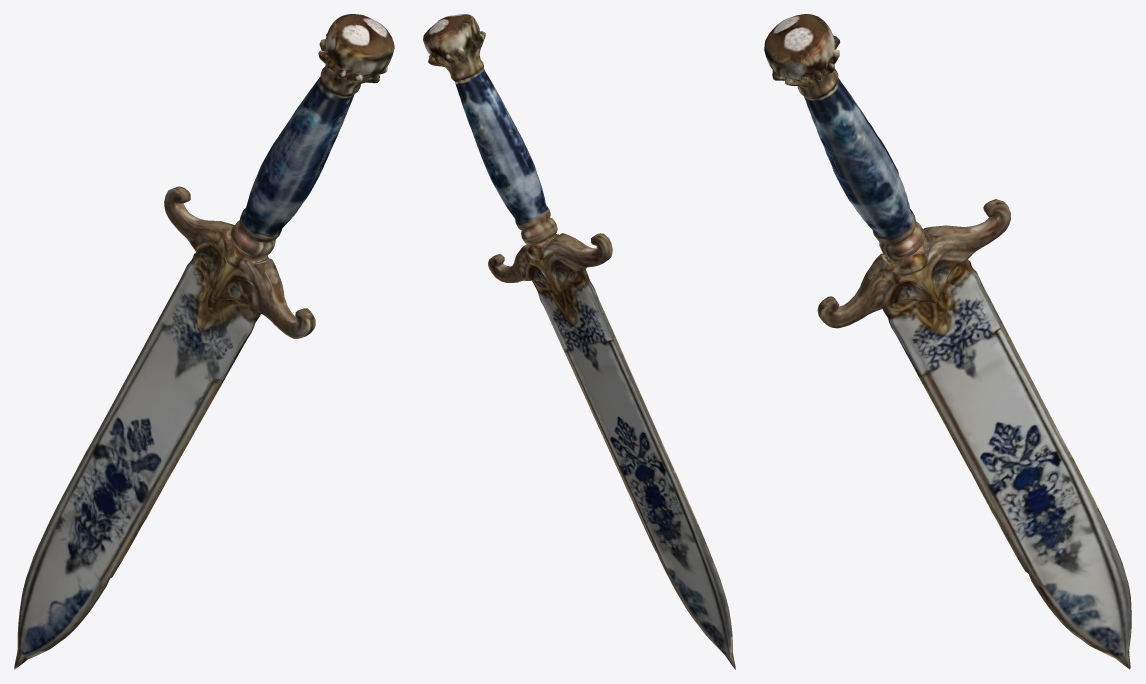
The model's file is knife_dagger.glb.
3 renders of one model, left to right at view 1: azimuth 30°, elevation 25°; view 2: azimuth 210°, elevation 25°; view 3: azimuth 270°, elevation 25°, orthographic. The views are drawn at different scales.
Parts seen in each view (by area): view 1: Mesh1_Material_0.001_0; view 2: Mesh1_Material_0.001_0; view 3: Mesh1_Material_0.001_0.
Boxes of the visible parts, x1,y1,x2,y2 form: Mesh1_Material_0.001_0: [14, 14, 394, 669]; Mesh1_Material_0.001_0: [423, 14, 735, 669]; Mesh1_Material_0.001_0: [764, 14, 1131, 669].
Size of the model in its own units: 0.5631 by 1.8 by 0.8107.
1 material, 1 textured.
